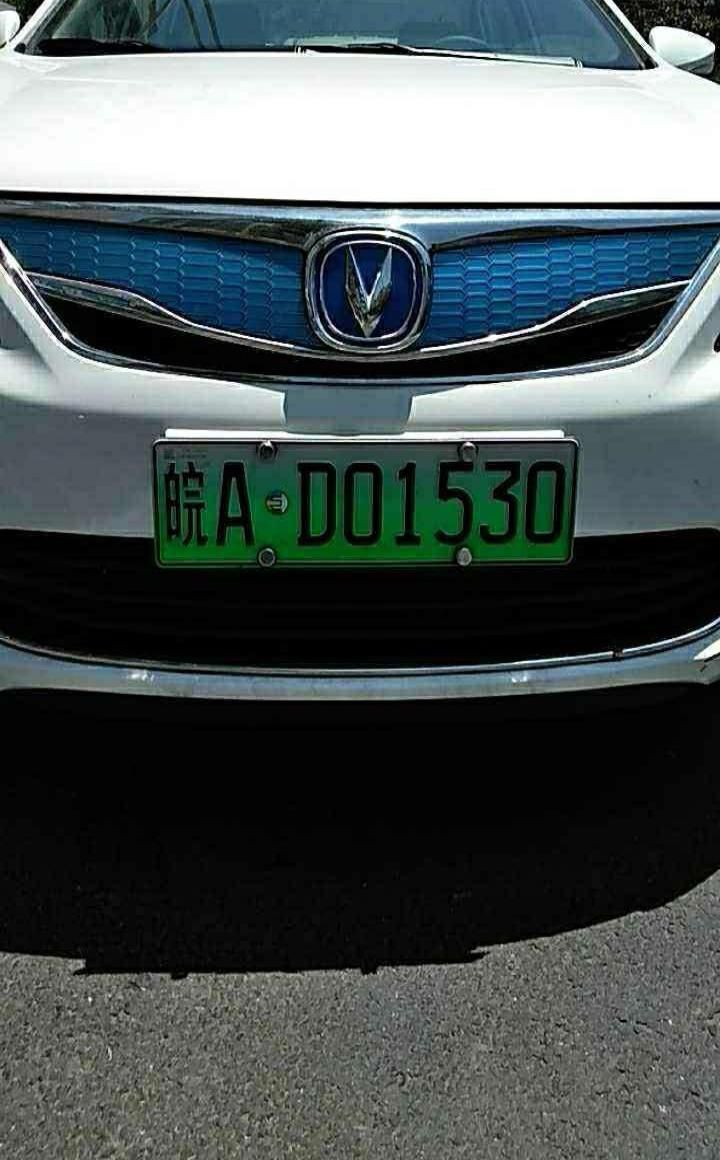car_id: (155, 442, 571, 562)
